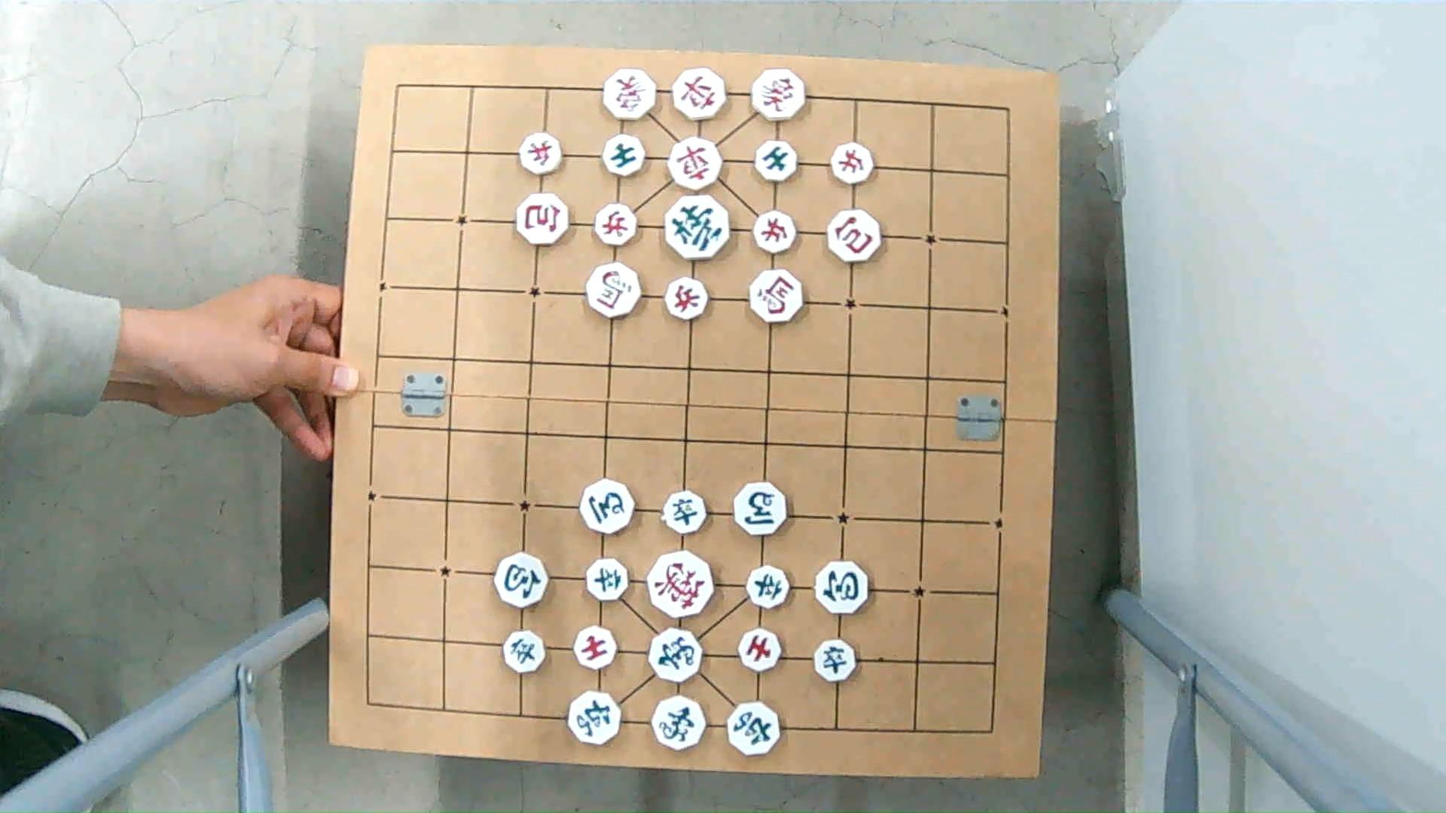cha_green: (564, 690, 626, 746), (728, 701, 780, 755)
cha_red: (673, 72, 730, 120), (667, 142, 723, 190)
jol_green: (502, 629, 547, 678), (664, 492, 710, 533), (745, 568, 792, 607), (588, 560, 632, 601), (813, 642, 856, 681)
jol_red: (828, 141, 874, 185), (519, 134, 566, 173), (664, 279, 708, 320), (753, 212, 797, 253), (596, 206, 641, 245)
ma_green: (581, 483, 636, 533), (733, 486, 788, 534)
ma_red: (587, 261, 642, 318), (753, 276, 807, 324)
po_green: (813, 563, 868, 613), (493, 558, 548, 607)
po_red: (518, 197, 572, 245), (830, 214, 885, 261)
sa_green: (753, 139, 802, 183), (604, 136, 648, 175)
sa_red: (571, 626, 621, 670), (737, 625, 784, 671)
sang_green: (651, 699, 706, 749), (650, 632, 705, 682)
sang_red: (749, 71, 805, 118), (603, 73, 658, 120)
wang_green: (666, 195, 731, 259)
wang_red: (648, 551, 718, 617)
